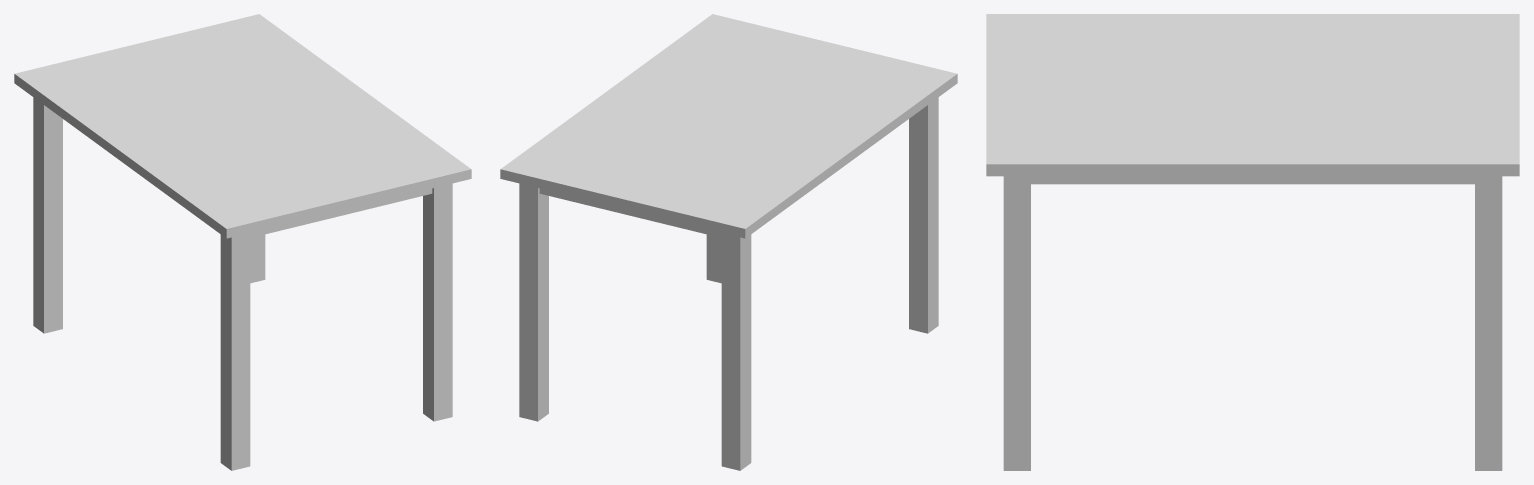
File: Table_02_C1.fbx
3 views of the same model, side by side, from view 1: azimuth 30°, elevation 25°; view 2: azimuth 150°, elevation 25°; view 3: azimuth 270°, elevation 25° (orthographic). The views are drawn at different scales.
Parts seen in each view (by area): view 1: Table_02_C1; view 2: Table_02_C1; view 3: Table_02_C1.
Boxes of the visible parts, x1=… form: Table_02_C1: x1=14, y1=14, x2=471, y2=470; Table_02_C1: x1=500, y1=14, x2=957, y2=470; Table_02_C1: x1=986, y1=14, x2=1519, y2=470.
Size of the model in its own units: 80 by 78 by 120.
